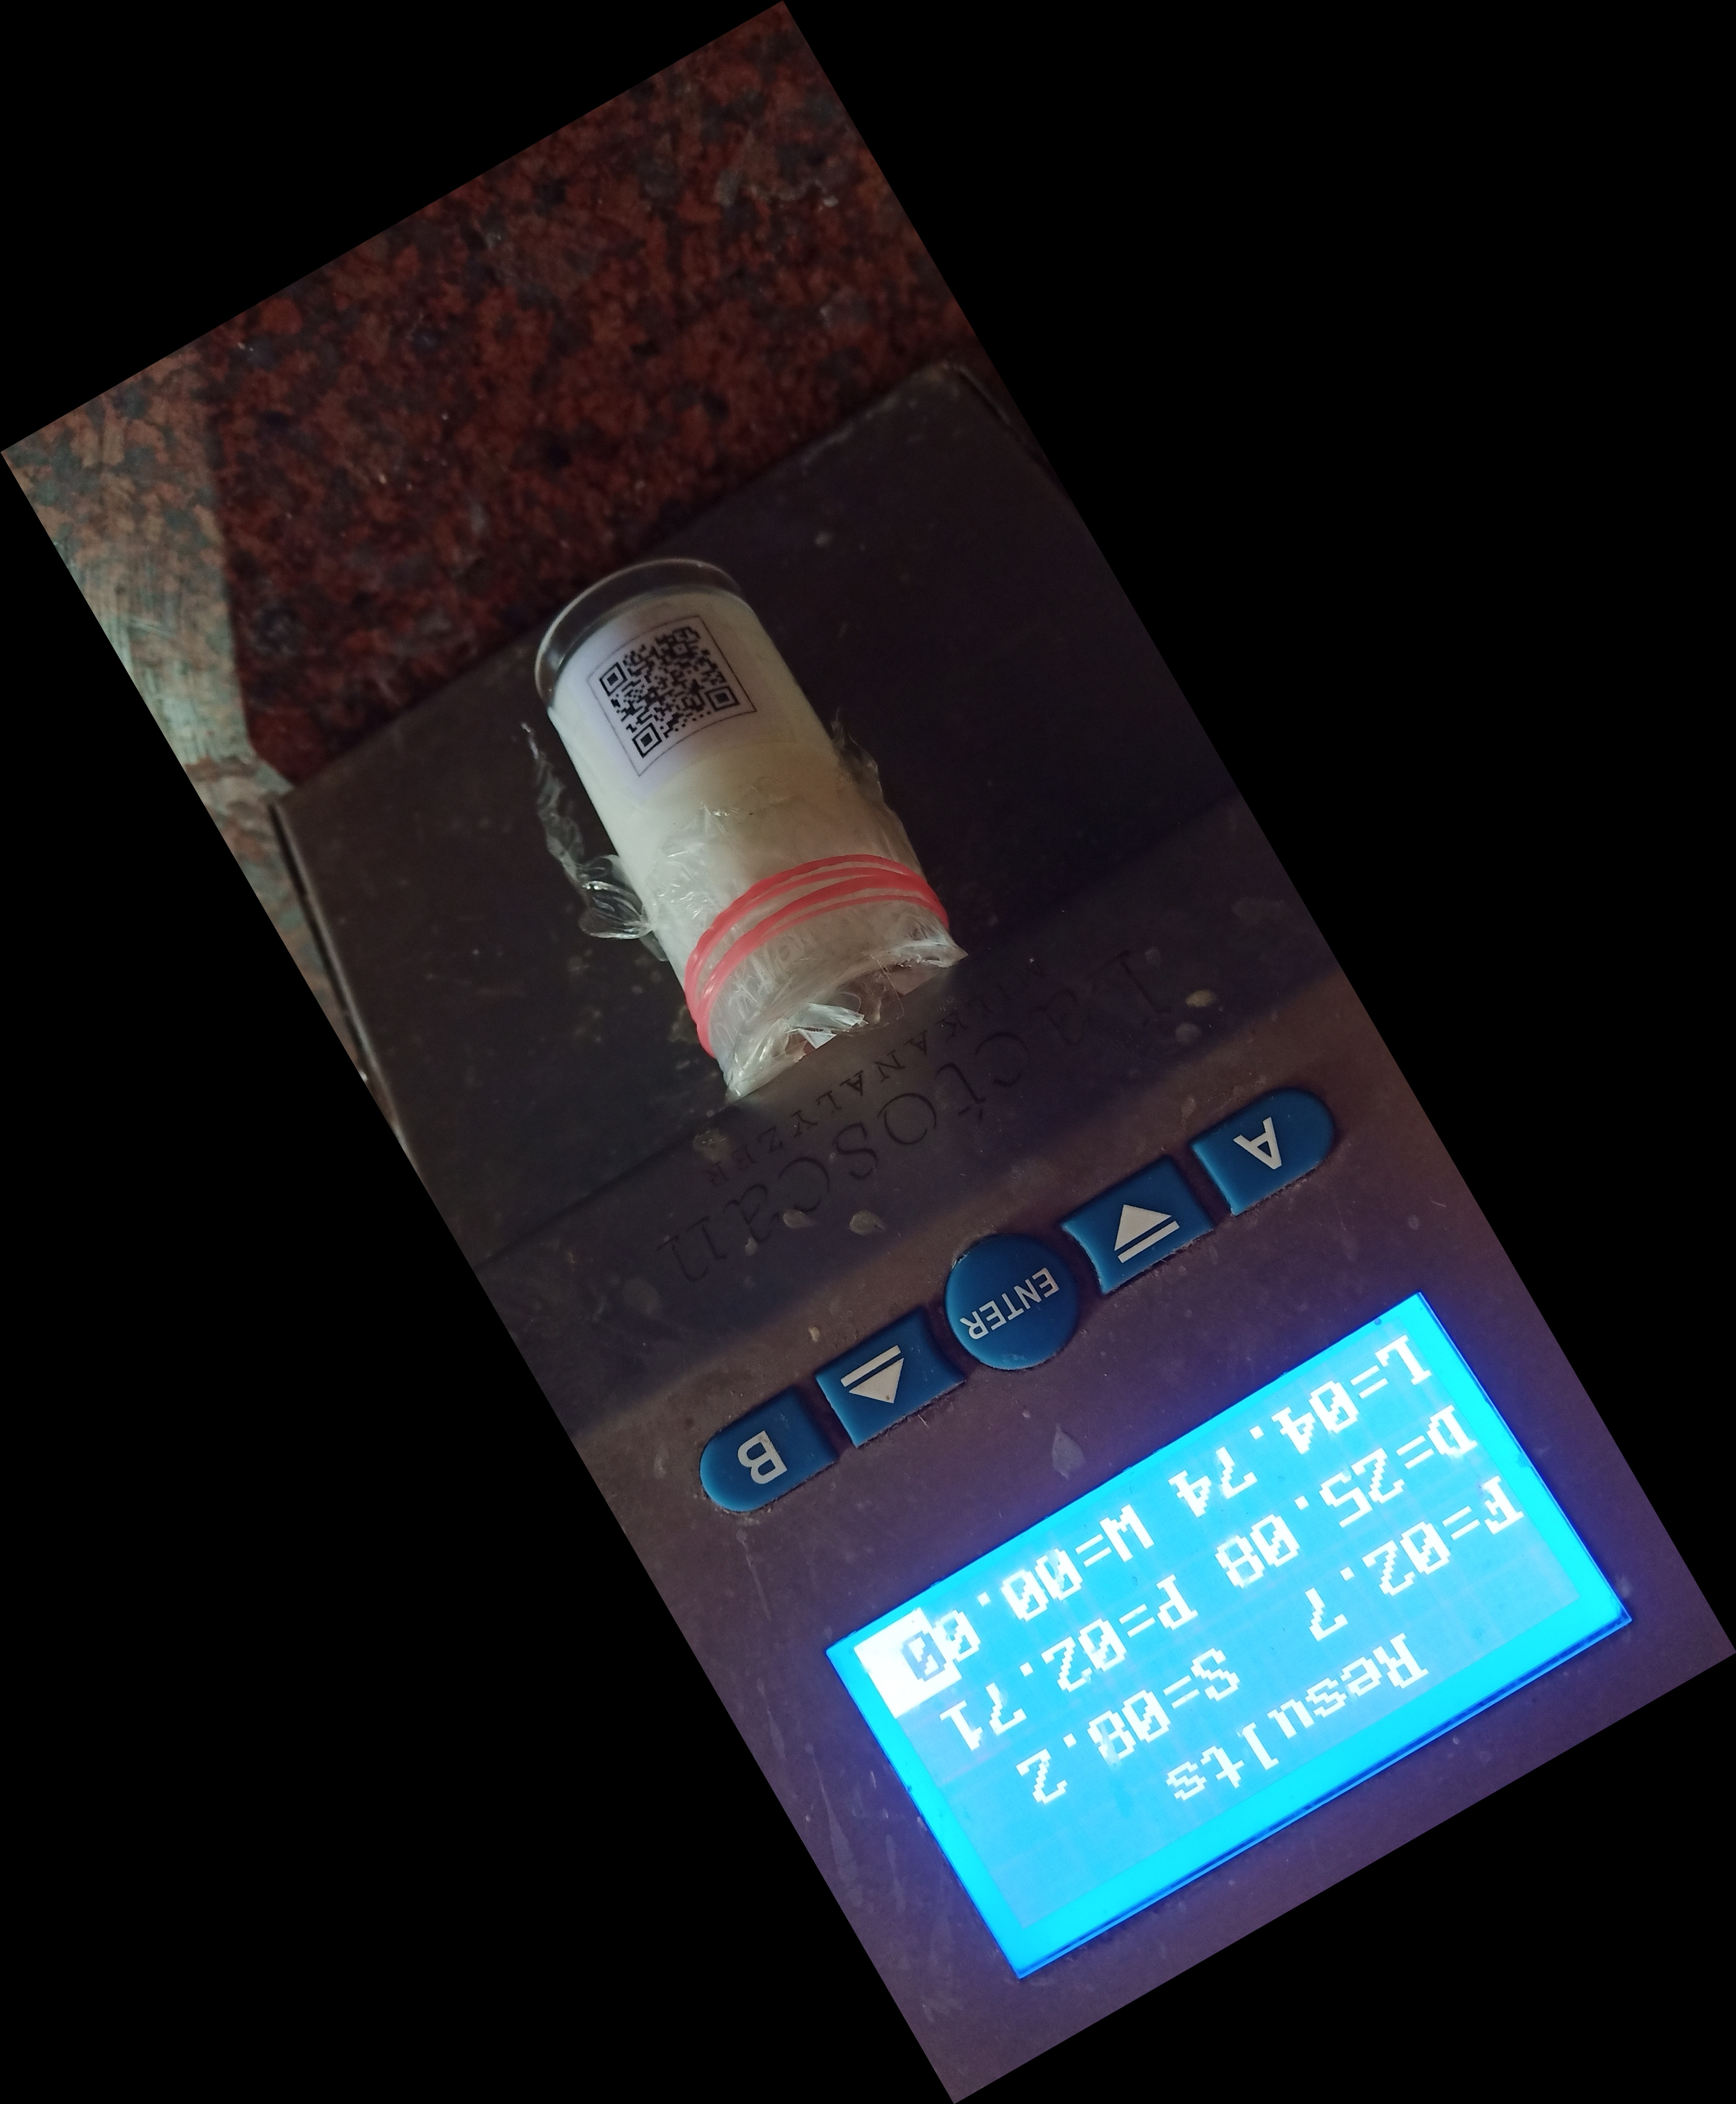lcd: (810, 1284, 1645, 1989)
qr: (569, 605, 767, 800)
